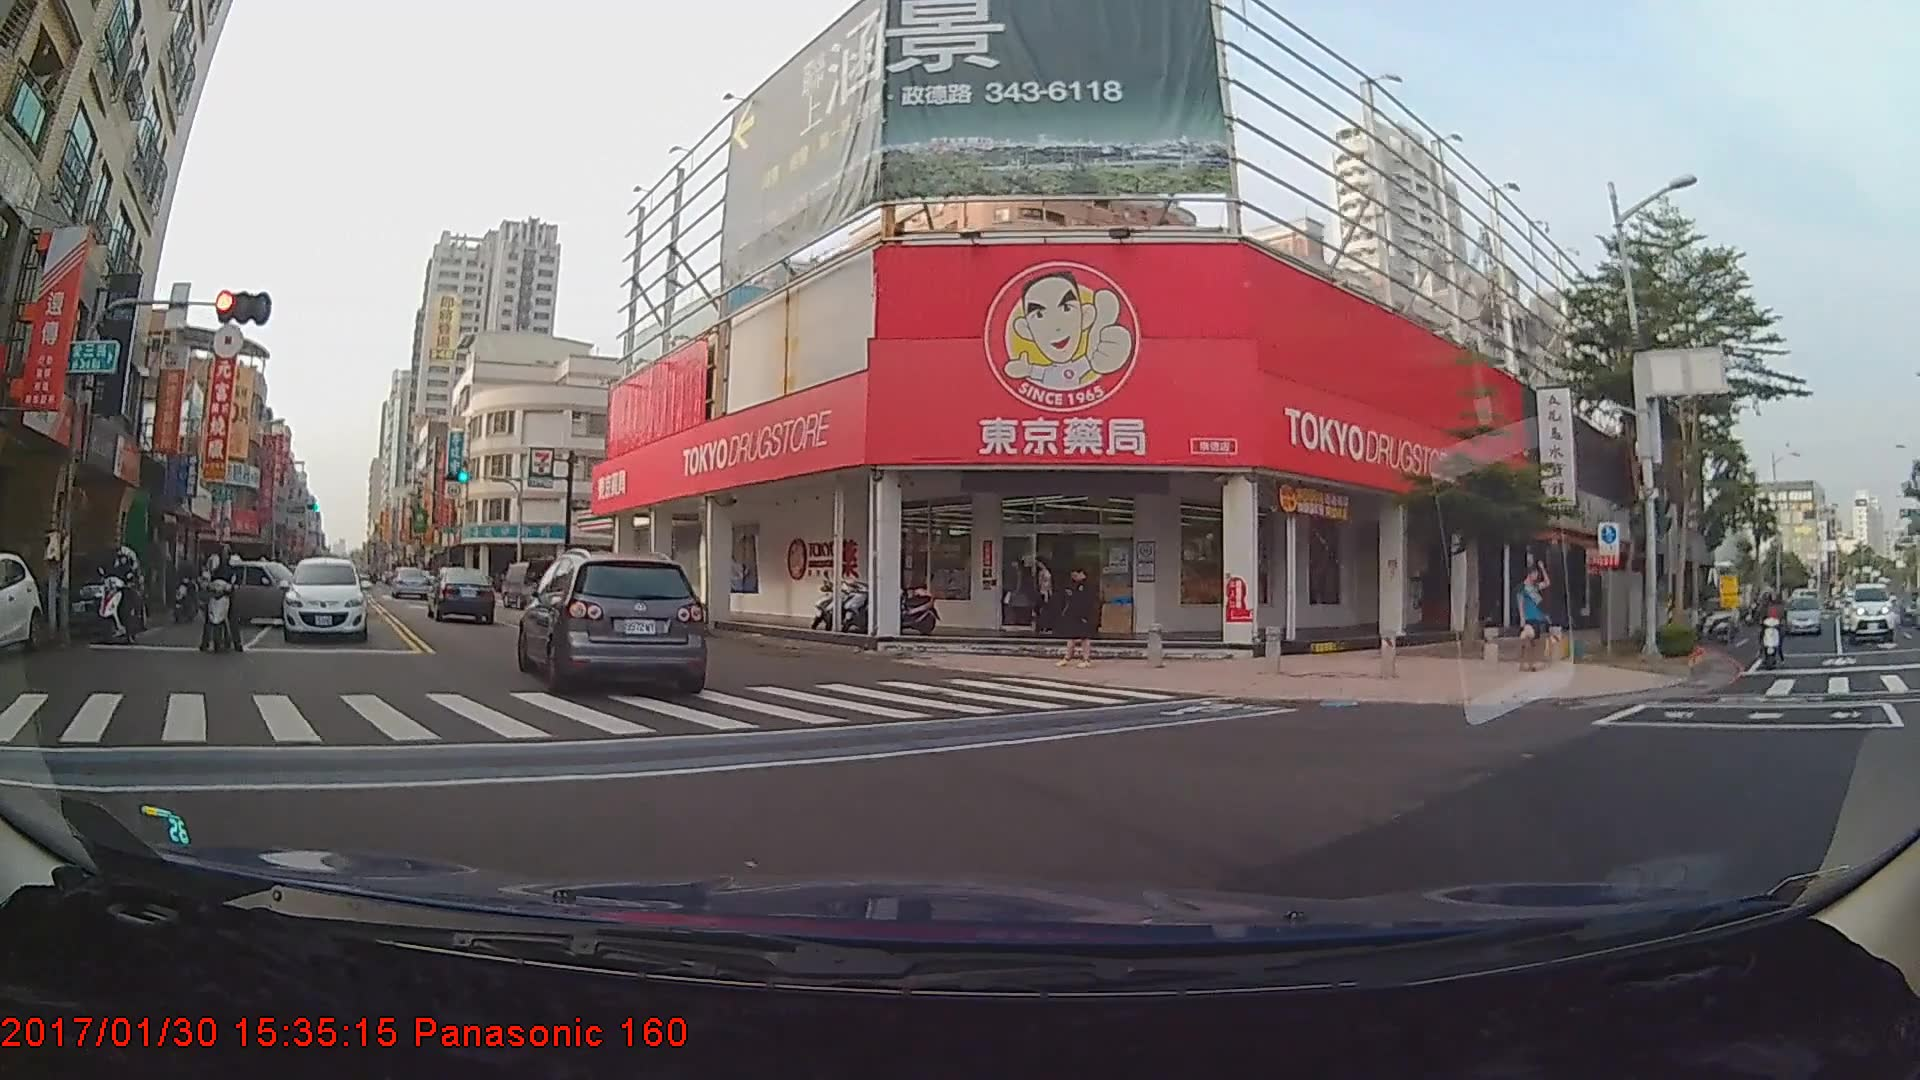pedestrian: (1058, 563, 1104, 671), (1513, 560, 1556, 672), (1005, 553, 1045, 636), (1032, 555, 1058, 637)
rider: (91, 547, 154, 651), (191, 543, 245, 654), (1751, 591, 1789, 666)
vehicle: (517, 553, 703, 694), (30, 541, 147, 636), (280, 557, 368, 644), (203, 559, 316, 626), (428, 567, 496, 624), (1842, 584, 1896, 649), (1781, 593, 1823, 633)
